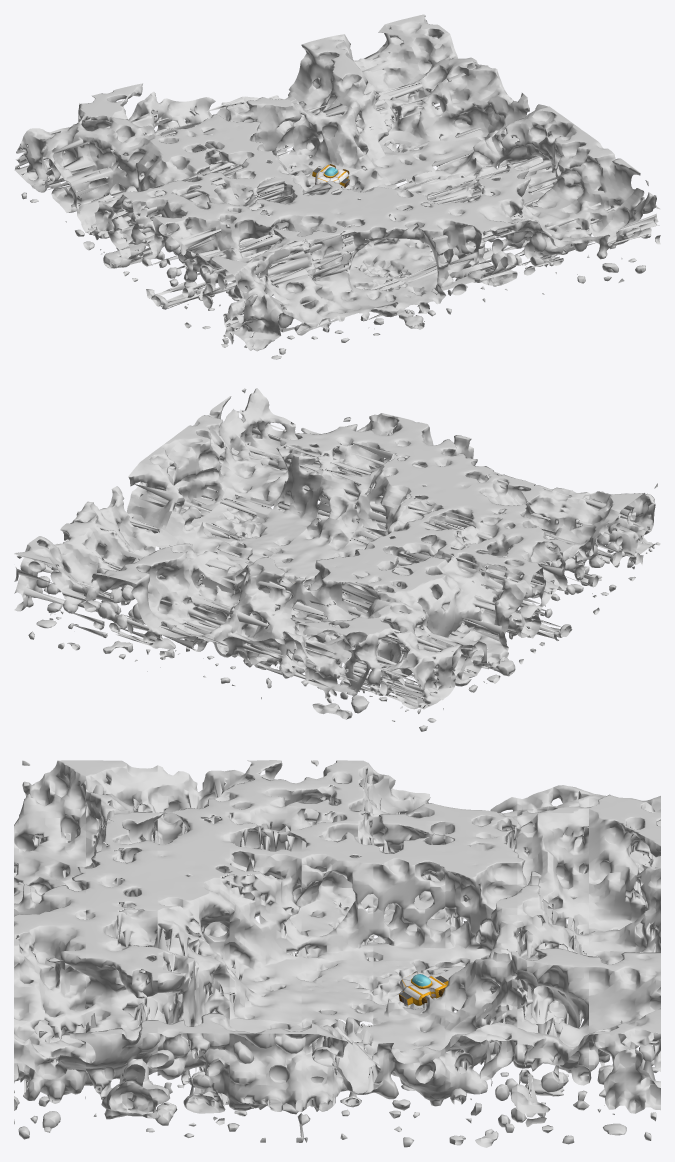
File: Cutscene10_FINAL.fbx
The picture shows the model from 3 angles, top to bottom: view 1: azimuth 30°, elevation 25°; view 2: azimuth 150°, elevation 25°; view 3: azimuth 270°, elevation 25°; orthographic projection. The views are drawn at different scales.
Parts seen in each view (by area): view 1: Chunk_Clone_, Main_Geo; view 2: Chunk_Clone_; view 3: Chunk_Clone_, Main_Geo.
Part boxes in pixels (box(x1,y1,x2,y2)): Chunk_Clone_: box(14, 14, 660, 359); Main_Geo: box(312, 164, 349, 187); Chunk_Clone_: box(14, 388, 660, 731); Chunk_Clone_: box(14, 760, 660, 1147); Main_Geo: box(399, 972, 448, 1005).
Size of the model in its own units: 1029 by 213 by 1029.
